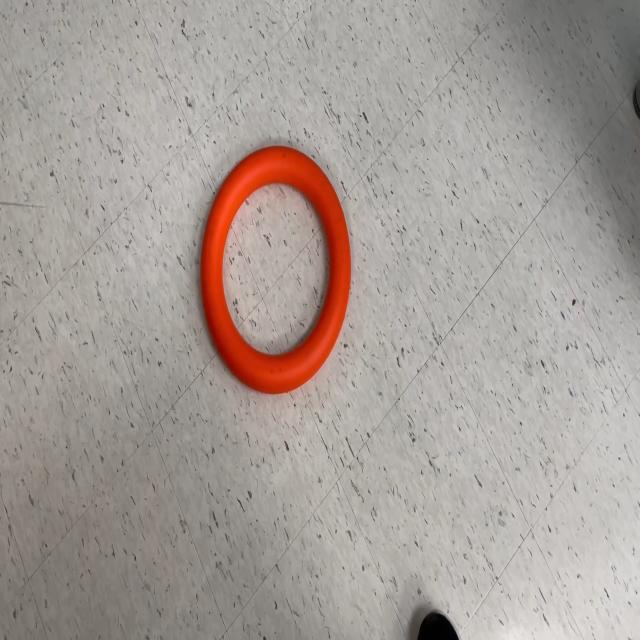note: (200, 144, 352, 395)
